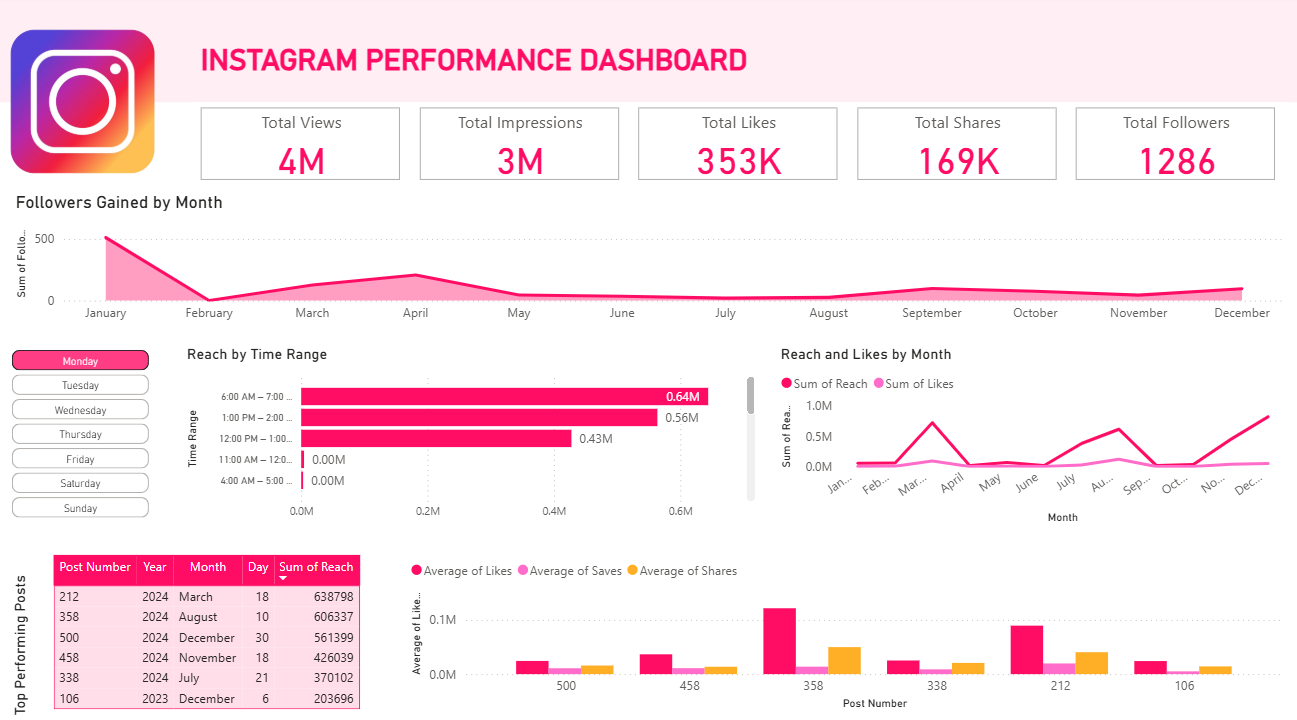

This screenshot's page, from the dashboard's own definition file:
{"tool":"powerbi","page":{"name":"Page 1","canvas":[1280,720],"ordinal":0},"visuals":[{"type":"shape","box":[0,0,1280,100],"z":0},{"type":"advancedSlicerVisual","fields":{"Values":["Weekday_Lookup.WeekdayName"]},"box":[10,337.1,144.3,180],"z":1000},{"type":"lineChart","title":"Reach and Likes by Month","fields":{"Category":["Full_Instagram_Reels_Stats_Tabl.Date.Variation.Date Hierarchy.Month"],"Y":["Sum(Full_Instagram_Reels_Stats_Tabl.Reach)","Sum(Full_Instagram_Reels_Stats_Tabl.Likes)"]},"box":[761.4,337.1,501.4,180],"z":2000},{"type":"cardVisual","fields":{"Data":["Sum(Full_Instagram_Reels_Stats_Tabl.Plays)","Sum(Full_Instagram_Reels_Stats_Tabl.Reach)","Sum(Full_Instagram_Reels_Stats_Tabl.Likes)","Sum(Full_Instagram_Reels_Stats_Tabl.Shares)","Sum(Full_Instagram_Reels_Stats_Tabl.Followers Gained)"]},"box":[194.3,100,1065.7,81.4],"z":3000},{"type":"stackedAreaChart","title":"Followers Gained by Month","fields":{"Category":["Full_Instagram_Reels_Stats_Tabl.Date.Variation.Date Hierarchy.Month"],"Y":["Sum(Full_Instagram_Reels_Stats_Tabl.Followers Gained)"]},"box":[12.9,187.1,1250,137.1],"z":4000},{"type":"clusteredBarChart","title":"Reach by Time Range","fields":{"Category":["Full_Instagram_Reels_Stats_Tabl.Time Range"],"Y":["Sum(Full_Instagram_Reels_Stats_Tabl.Reach)"]},"box":[181.4,337.1,565.7,180],"z":5000},{"type":"tableEx","title":"Top Performing Posts","fields":{"Values":["High_Reach_Posts.Post Number","High_Reach_Posts.Date.Variation.Date Hierarchy.Year","High_Reach_Posts.Date.Variation.Date Hierarchy.Month","High_Reach_Posts.Date.Variation.Date Hierarchy.Day","Sum(High_Reach_Posts.Reach)"]},"box":[48.6,538.6,314.3,161.4],"z":6000},{"type":"clusteredColumnChart","fields":{"Category":["High_Reach_Posts.Post Number"],"Y":["Avg(High_Reach_Posts.Likes)","Avg(High_Reach_Posts.Saves)","Avg(High_Reach_Posts.Shares)"]},"box":[400,538.6,864.3,161.4],"z":7000},{"type":"image","box":[7.1,5.7,152.9,187.1],"z":8000},{"type":"shape","box":[10,547.1,27.1,152.9],"z":9000},{"type":"textbox","box":[194.3,37.1,785.7,62.9],"z":10000}]}

Visuals, with their boxes in screenshot pixels (x1, y1, x2, y2), scaled from the page's 1280x720 canvas onto the 1297x720 screenshot:
shape: locate(0, 0, 1296, 100)
advancedSlicerVisual - Weekday_Lookup.WeekdayName: locate(10, 337, 156, 517)
"Reach and Likes by Month" lineChart: locate(772, 337, 1280, 517)
cardVisual - Sum(Full_Instagram_Reels_Stats_Tabl.Plays) x Sum(Full_Instagram_Reels_Stats_Tabl.Reach): locate(197, 100, 1277, 181)
"Followers Gained by Month" stackedAreaChart: locate(13, 187, 1280, 324)
"Reach by Time Range" clusteredBarChart: locate(184, 337, 757, 517)
"Top Performing Posts" tableEx: locate(49, 539, 368, 700)
clusteredColumnChart - High_Reach_Posts.Post Number x Avg(High_Reach_Posts.Likes): locate(405, 539, 1281, 700)
image: locate(7, 6, 162, 193)
shape: locate(10, 547, 38, 700)
textbox: locate(197, 37, 993, 100)
